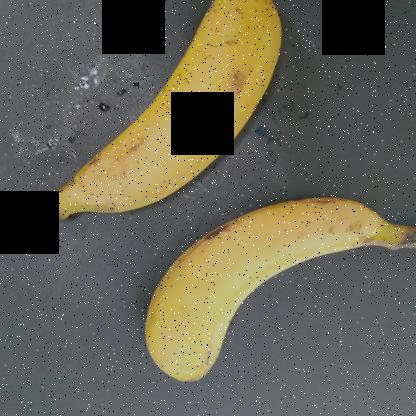freshripe: (109, 177, 415, 388)
ripe: (67, 1, 302, 221)
